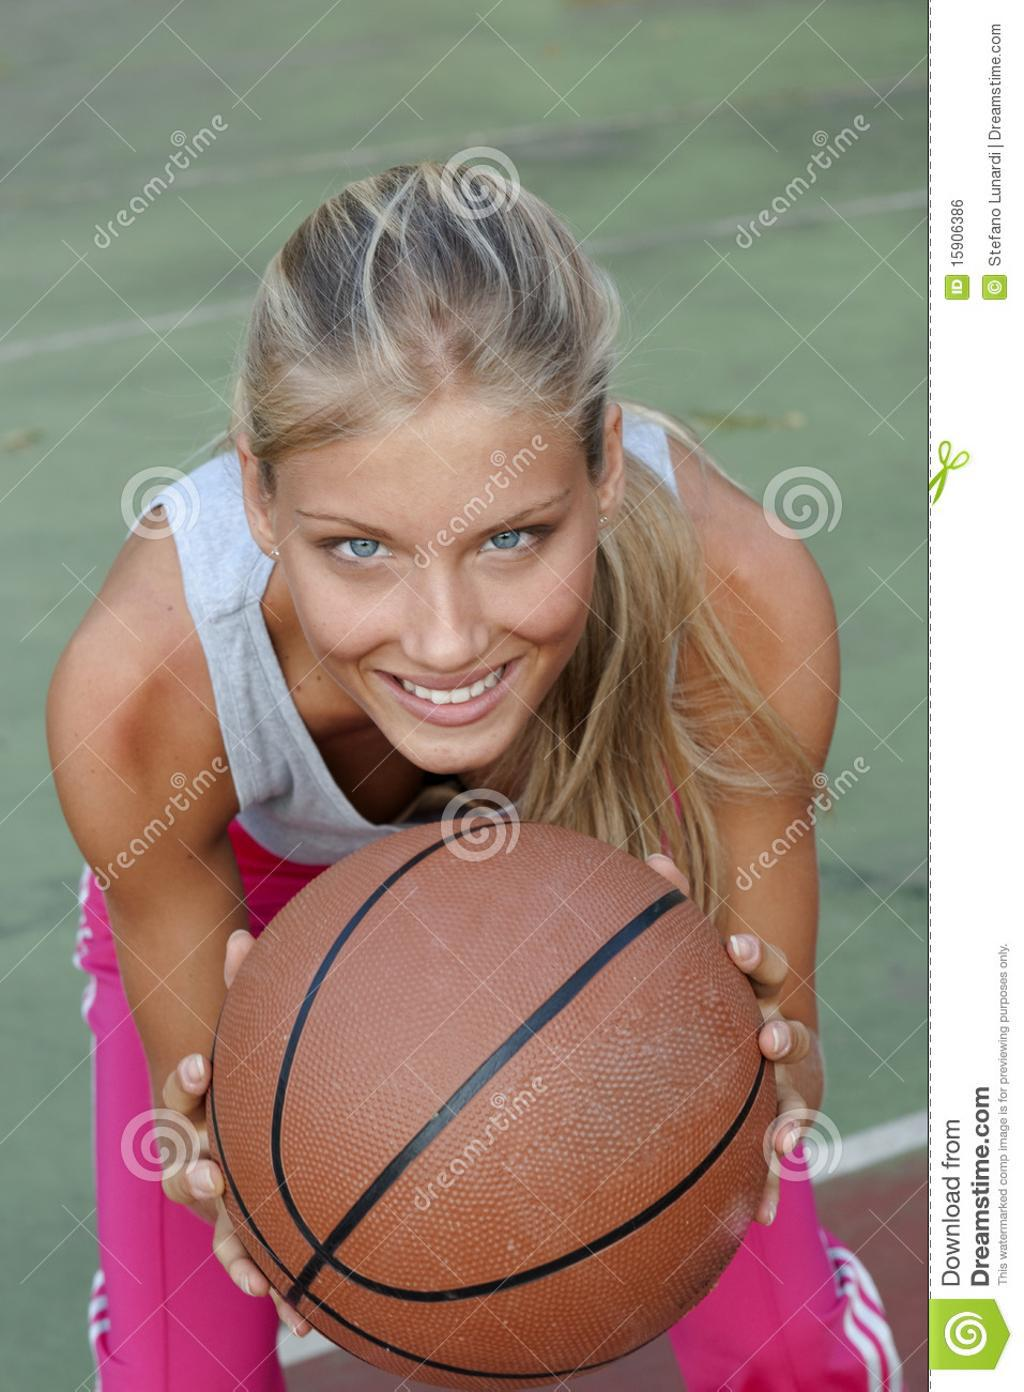face: (273, 379, 607, 776)
